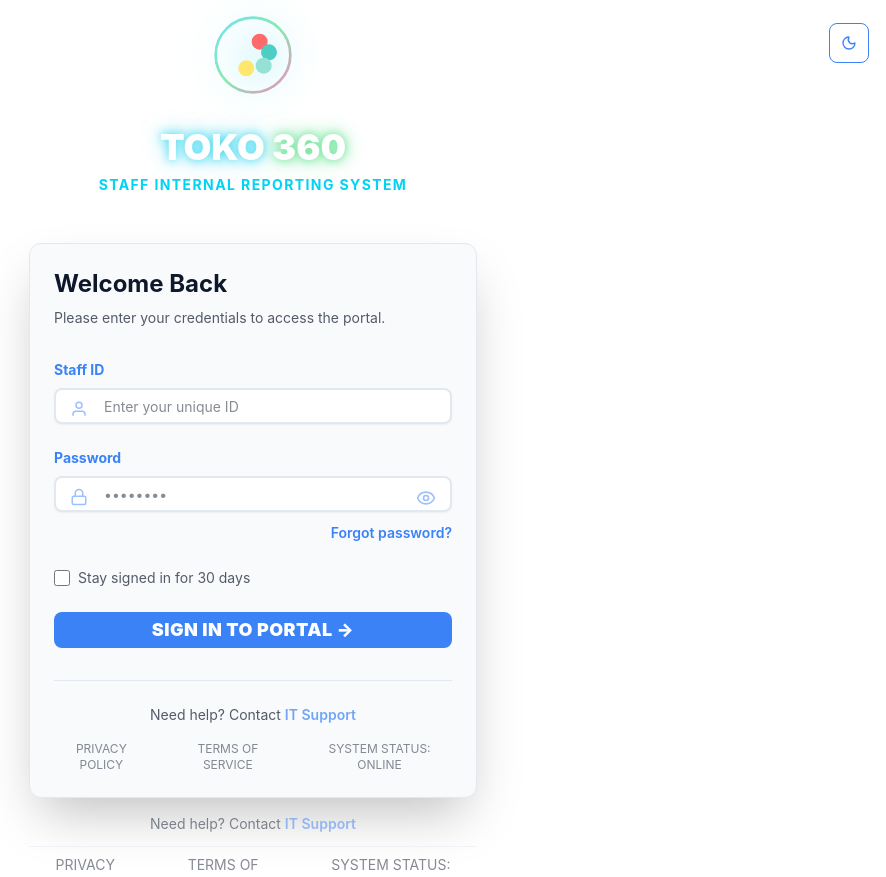
Test: LoginPage - Bug Condition Exploration › Property 1: UI displays error message after failed login
// Fill in credentials
In the field with placeholder "Enter your unique ID": (253,406) x1=54 y1=388 x2=452 y2=424, type "INVALID-ID"
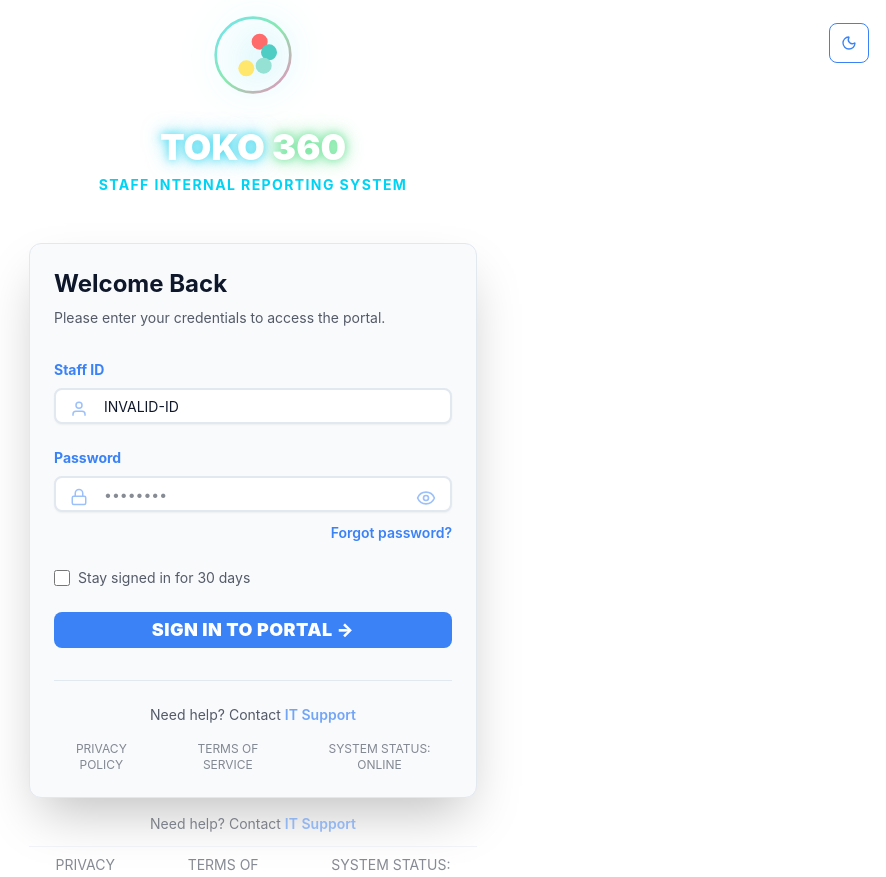
In the password field with placeholder "••••••••": (253,494) x1=54 y1=476 x2=452 y2=512, type "wrongpass"
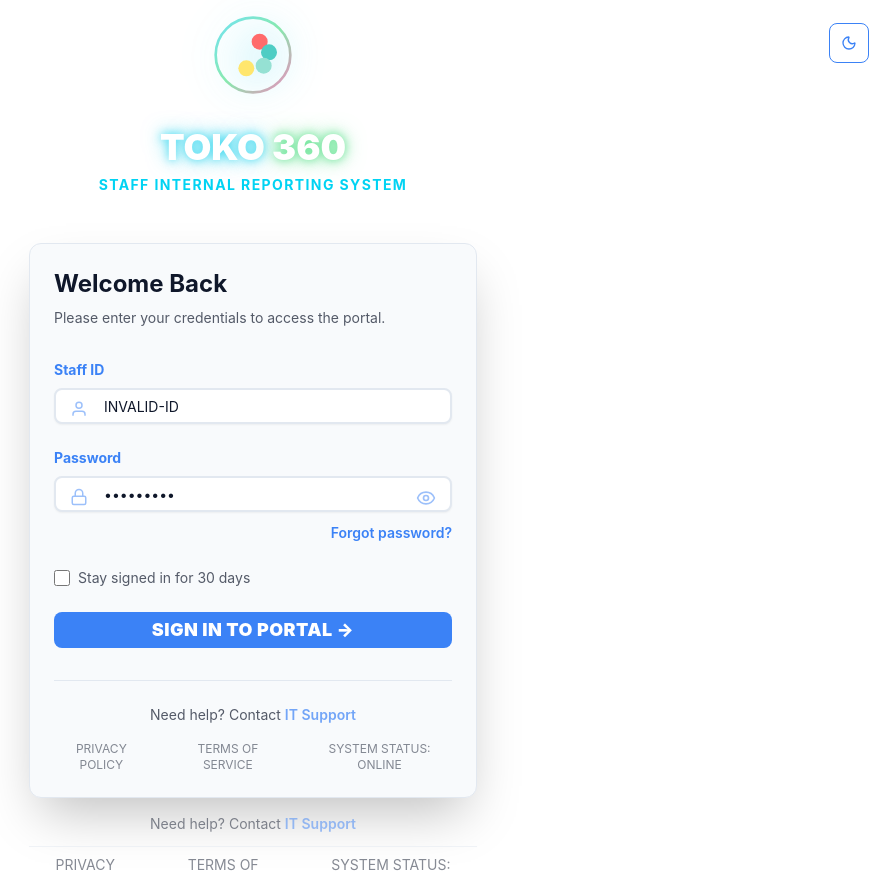
// Submit form
Click the button "SIGN IN TO PORTAL →": (253,630) x1=54 y1=612 x2=452 y2=648
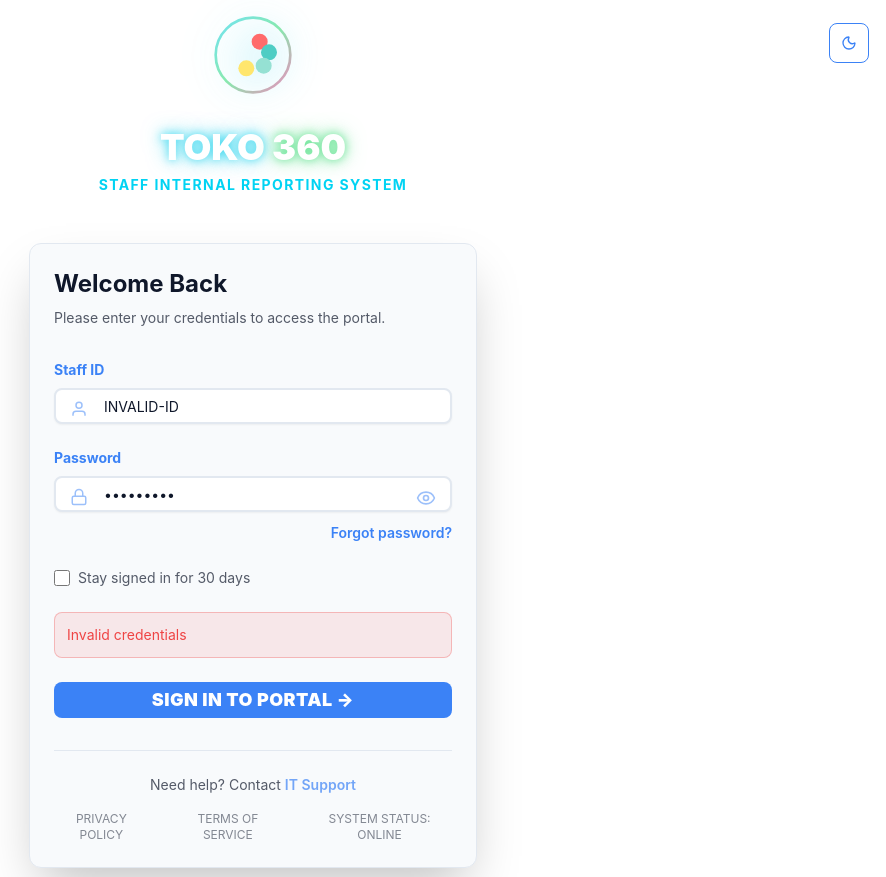
Now the text "Invalid credentials" is shown, box x1=54 y1=612 x2=452 y2=658
